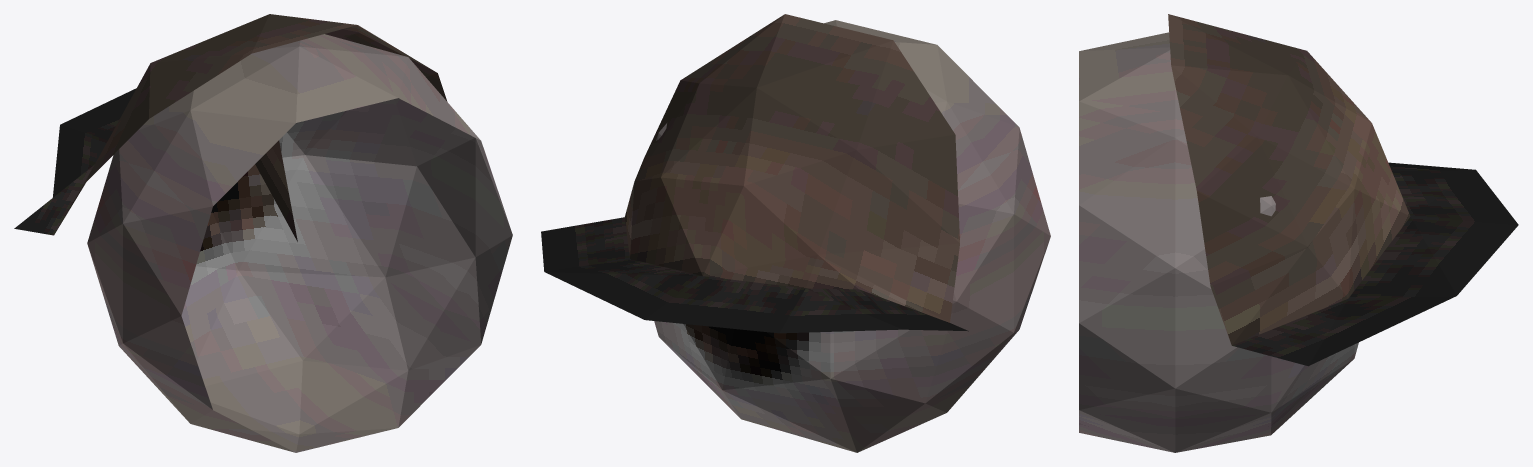
File: recovered_gear_right_eye_brown_large_6a5d0f315ce3.glb
The picture shows the model from 3 angles, left to right: view 1: azimuth 30°, elevation 25°; view 2: azimuth 150°, elevation 25°; view 3: azimuth 270°, elevation 25°; orthographic projection.
Visible parts, largest first — view 1: right_eye_brown_large; view 2: right_eye_brown_large; view 3: right_eye_brown_large.
Boxes of the visible parts, <box> form: right_eye_brown_large: <box>14,14,512,452</box>; right_eye_brown_large: <box>541,14,1050,452</box>; right_eye_brown_large: <box>1079,14,1518,452</box>.
Bounding box in the file's own units: 0.0415 × 0.0356 × 0.0356.
2 materials, 2 textured.
